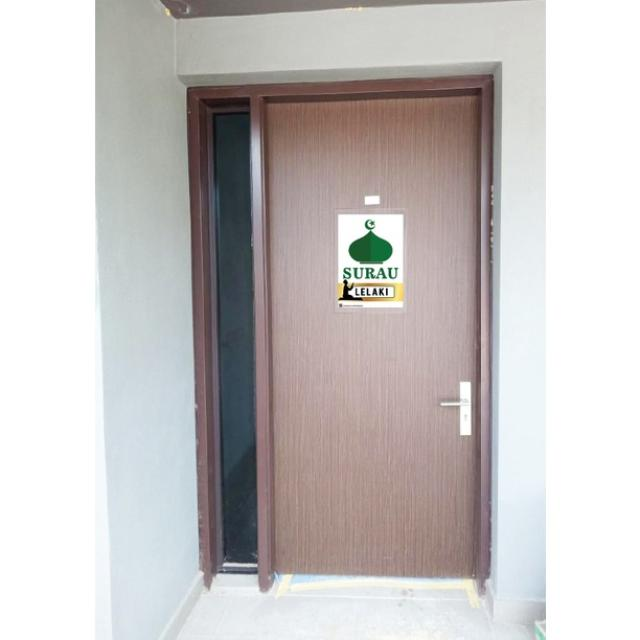surau_icon: (343, 216, 399, 268)
